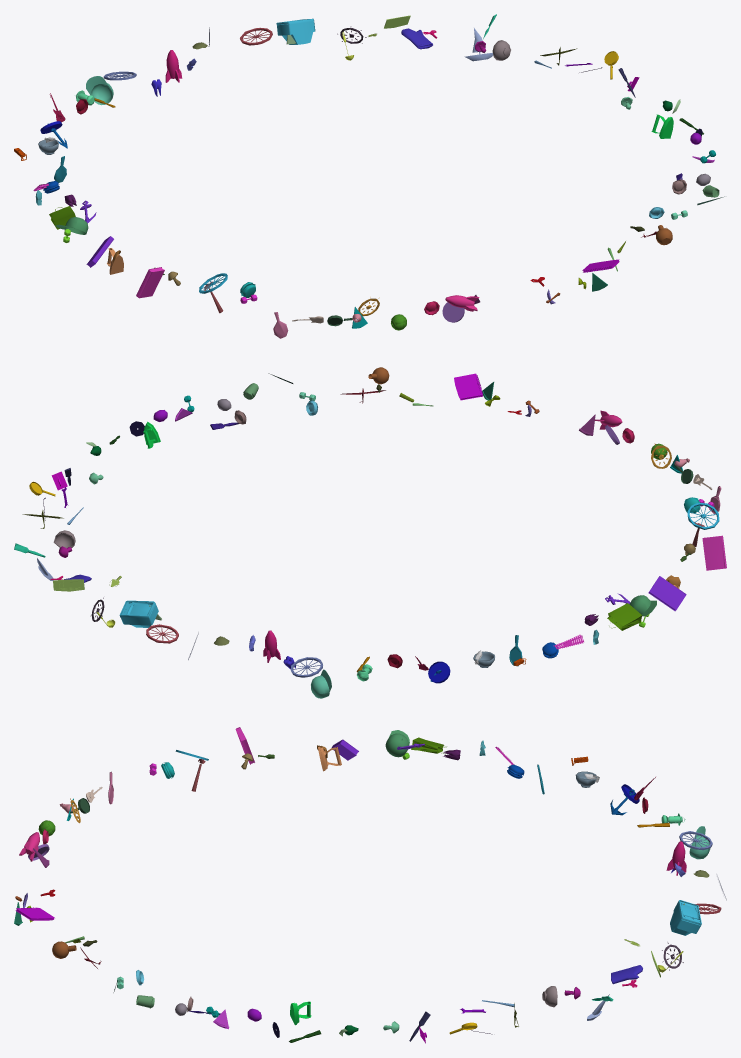
Rendered from TestDebris100_10reduce_out2_0728.fbx.
3 views of the same model, one above another, from view 1: azimuth 30°, elevation 25°; view 2: azimuth 150°, elevation 25°; view 3: azimuth 270°, elevation 25° (orthographic). The views are drawn at different scales.
Parts seen in each view (by area): view 1: polyreduce3; view 2: polyreduce3; view 3: polyreduce3.
Part boxes in pixels (box(x1,y1,x2,y2)): polyreduce3: box(14, 14, 724, 338); polyreduce3: box(14, 367, 726, 698); polyreduce3: box(14, 727, 726, 1043).
Size of the model in its own units: 21 by 1.55 by 21.15.
